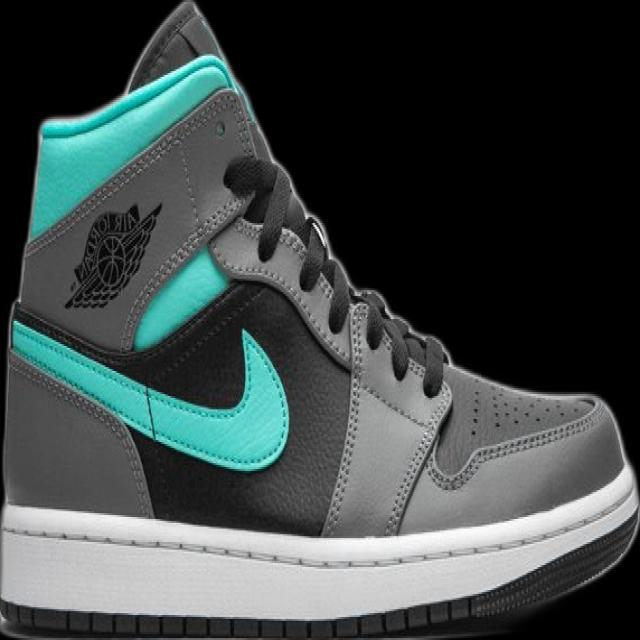J1_InsoleChar: (0, 0, 639, 639)
J1_ShoeLogo: (62, 199, 163, 311)
J1_StitchPattern: (319, 288, 601, 536), (215, 154, 449, 398), (0, 493, 639, 575), (318, 287, 450, 536), (1, 589, 550, 639), (4, 343, 155, 516), (211, 212, 354, 367), (428, 400, 605, 491), (319, 298, 368, 536), (381, 386, 453, 537), (355, 287, 449, 397), (463, 380, 544, 436)
